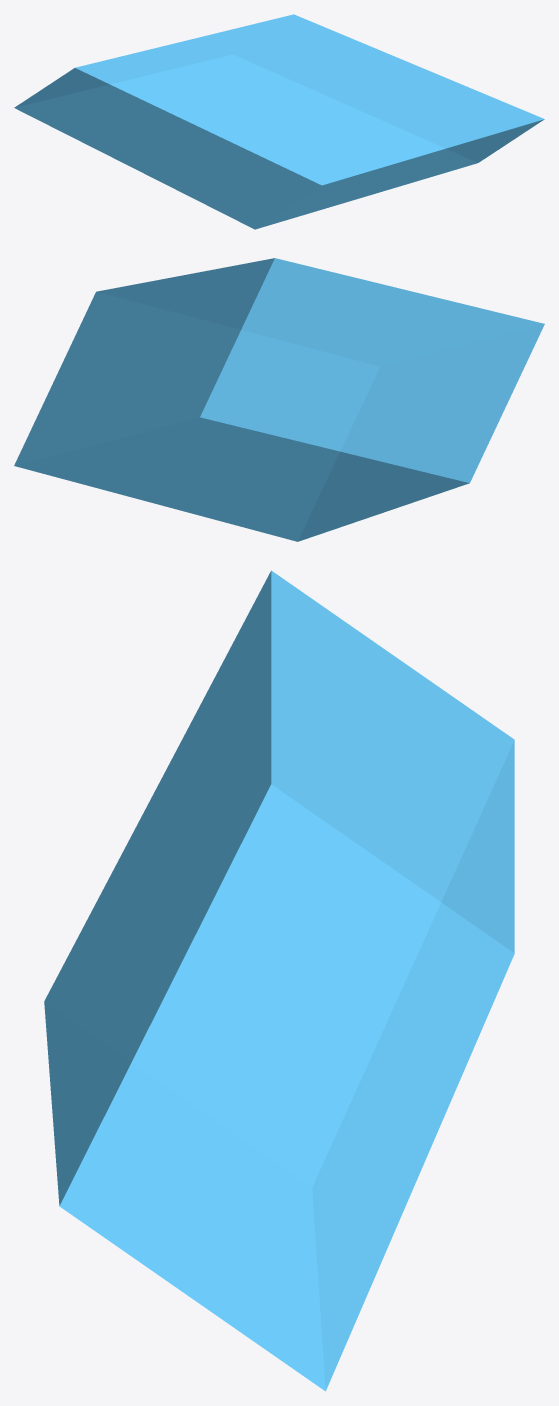
Rendered from Event_421278790_HBrechit_29.fbx.
The picture shows the model from 3 angles, top to bottom: view 1: azimuth 30°, elevation 25°; view 2: azimuth 150°, elevation 25°; view 3: azimuth 270°, elevation 25°; orthographic projection. The views are drawn at different scales.
Visible parts, largest first — view 1: Model; view 2: Model; view 3: Model.
Part boxes in pixels (left/top/right/bottom): Model: left=14, top=14, right=544, bottom=229; Model: left=14, top=258, right=544, bottom=541; Model: left=44, top=570, right=514, bottom=1391.
Size of the model in its own units: 1.26 by 0.6232 by 0.6158.
